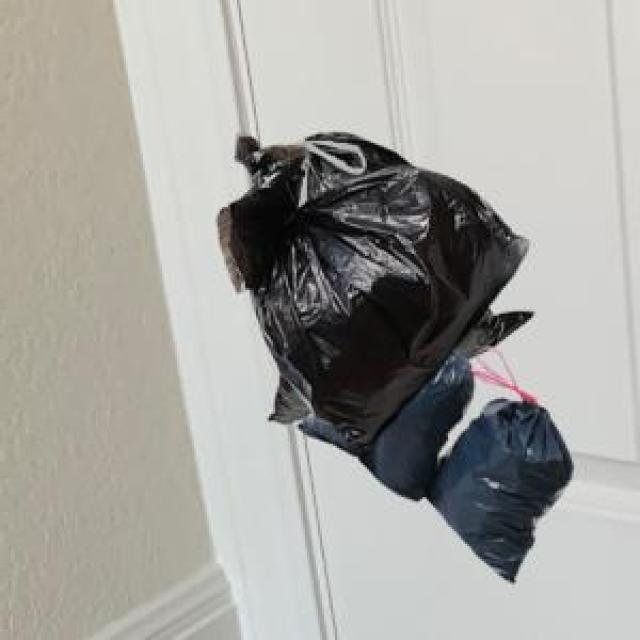Trashbag: (252, 163, 536, 452), (436, 407, 579, 586)
